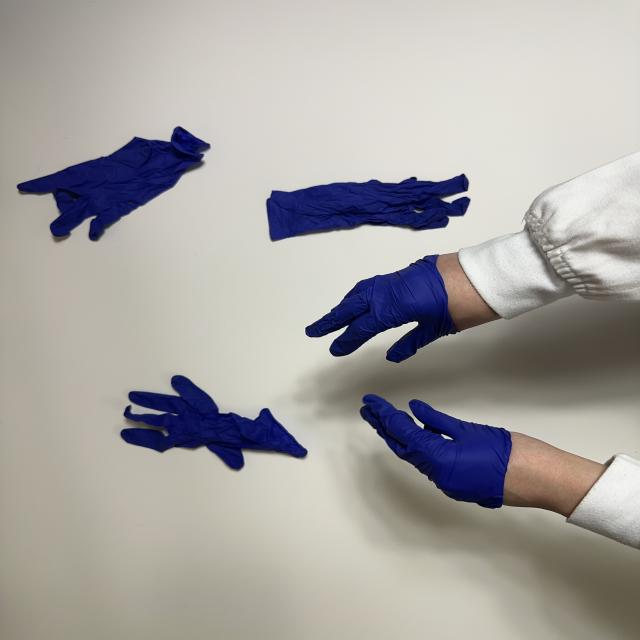glove_not_fitted: (356, 394, 610, 522), (302, 249, 509, 364)
